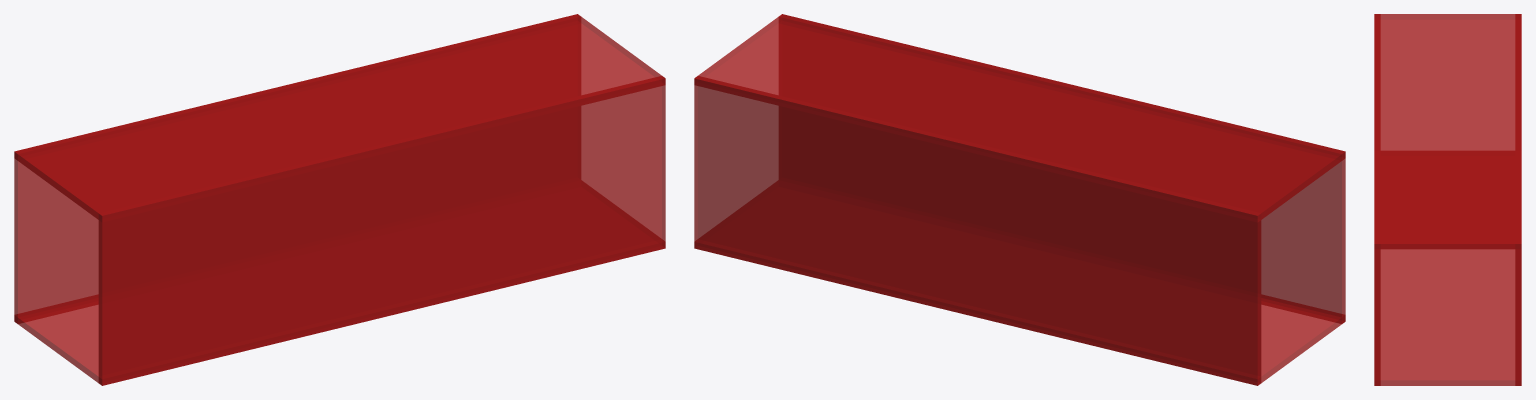
The model's file is SM_Prop_Container_Large_Doors_01_Collision.fbx.
The picture shows the model from 3 angles, left to right: view 1: azimuth 30°, elevation 25°; view 2: azimuth 150°, elevation 25°; view 3: azimuth 270°, elevation 25°; orthographic projection. The views are drawn at different scales.
Parts seen in each view (by area): view 1: SM_Prop_Container_Large_Doors_01_Collision; view 2: SM_Prop_Container_Large_Doors_01_Collision; view 3: SM_Prop_Container_Large_Doors_01_Collision.
Part boxes in pixels (x1,y1,x2,y2): SM_Prop_Container_Large_Doors_01_Collision: (14,14,665,385); SM_Prop_Container_Large_Doors_01_Collision: (694,14,1345,385); SM_Prop_Container_Large_Doors_01_Collision: (1374,14,1521,385).
Size of the model in its own units: 898 by 259 by 243.
